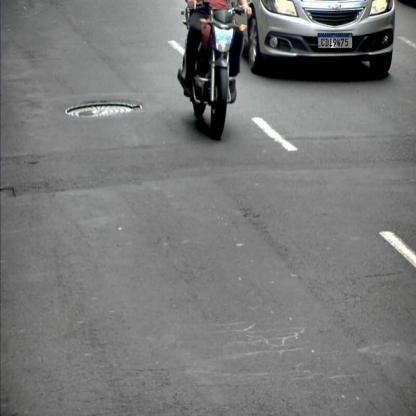PlacaM: (318, 33, 352, 49)
